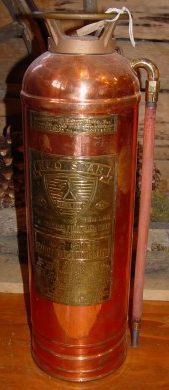fire_extinguisher: (0, 0, 161, 383)
